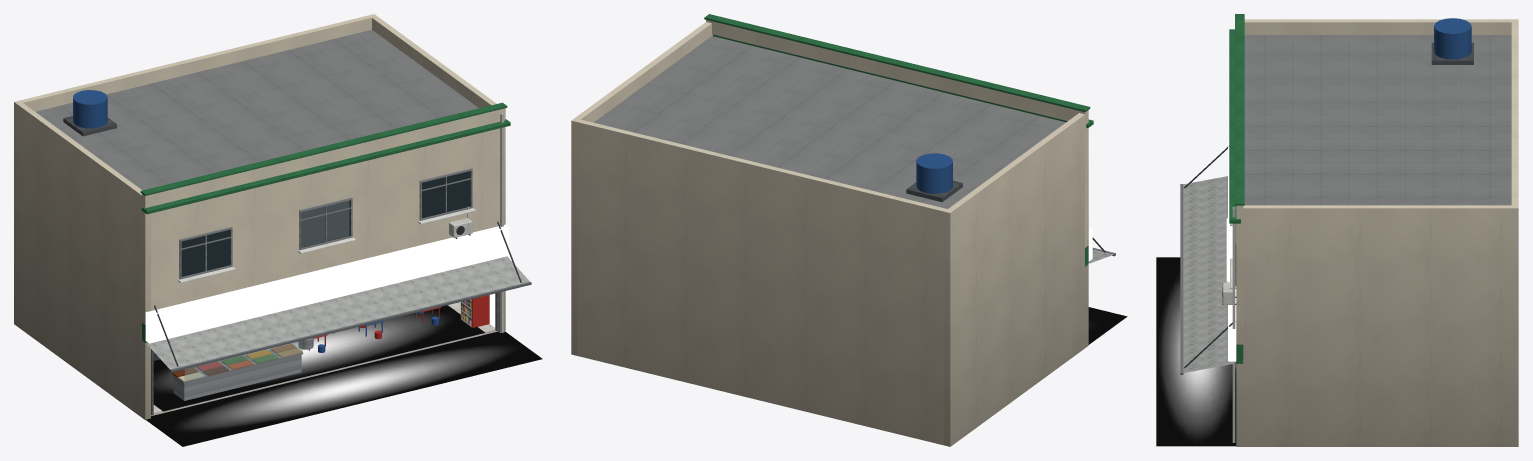
File: LM_SHOP_WarungKakAna.glb
3 views of the same model, side by side, from view 1: azimuth 30°, elevation 25°; view 2: azimuth 150°, elevation 25°; view 3: azimuth 270°, elevation 25° (orthographic). The views are drawn at different scales.
Parts seen in each view (by area): view 1: LM_SHOP_WarungKakAna | Render wall, LM_SHOP_WarungKakAna | Painted panel, LM_SHOP_WarungKakAna | Night wash, LM_SHOP_WarungKakAna | Night glow sign, LM_SHOP_WarungKakAna | Zinc sheet, LM_SHOP_WarungKakAna | Satin metal, LM_SHOP_WarungKakAna | Upper floor glass, LM_SHOP_WarungKakAna | Plastic, LM_SHOP_WarungKakAna | Shopfront glass, LM_SHOP_WarungKakAna | Night glow LED, LM_SHOP_WarungKakAna | Floor tiles; view 2: LM_SHOP_WarungKakAna | Render wall, LM_SHOP_WarungKakAna | Painted panel, LM_SHOP_WarungKakAna | Plastic, LM_SHOP_WarungKakAna | Night wash, LM_SHOP_WarungKakAna | Satin metal; view 3: LM_SHOP_WarungKakAna | Render wall, LM_SHOP_WarungKakAna | Painted panel, LM_SHOP_WarungKakAna | Night wash, LM_SHOP_WarungKakAna | Zinc sheet, LM_SHOP_WarungKakAna | Plastic, LM_SHOP_WarungKakAna | Satin metal, LM_SHOP_WarungKakAna | Night glow sign.
Part boxes in pixels (x1=…): LM_SHOP_WarungKakAna | Render wall: x1=14, y1=14, x2=505, y2=420; LM_SHOP_WarungKakAna | Painted panel: x1=35, y1=29, x2=510, y2=342; LM_SHOP_WarungKakAna | Night wash: x1=146, y1=305, x2=542, y2=446; LM_SHOP_WarungKakAna | Night glow sign: x1=145, y1=224, x2=509, y2=343; LM_SHOP_WarungKakAna | Zinc sheet: x1=147, y1=256, x2=529, y2=369; LM_SHOP_WarungKakAna | Satin metal: x1=63, y1=116, x2=531, y2=415; LM_SHOP_WarungKakAna | Upper floor glass: x1=181, y1=171, x2=470, y2=276; LM_SHOP_WarungKakAna | Plastic: x1=73, y1=90, x2=503, y2=381; LM_SHOP_WarungKakAna | Shopfront glass: x1=184, y1=299, x2=471, y2=380; LM_SHOP_WarungKakAna | Night glow LED: x1=302, y1=201, x2=495, y2=327; LM_SHOP_WarungKakAna | Floor tiles: x1=151, y1=302, x2=497, y2=415; LM_SHOP_WarungKakAna | Render wall: x1=571, y1=20, x2=1088, y2=446; LM_SHOP_WarungKakAna | Painted panel: x1=594, y1=14, x2=1093, y2=266; LM_SHOP_WarungKakAna | Plastic: x1=916, y1=153, x2=952, y2=193; LM_SHOP_WarungKakAna | Night wash: x1=1088, y1=307, x2=1127, y2=344; LM_SHOP_WarungKakAna | Satin metal: x1=906, y1=180, x2=1115, y2=256; LM_SHOP_WarungKakAna | Render wall: x1=1236, y1=19, x2=1518, y2=446; LM_SHOP_WarungKakAna | Painted panel: x1=1222, y1=14, x2=1511, y2=363; LM_SHOP_WarungKakAna | Night wash: x1=1156, y1=257, x2=1236, y2=446; LM_SHOP_WarungKakAna | Zinc sheet: x1=1183, y1=176, x2=1233, y2=372; LM_SHOP_WarungKakAna | Plastic: x1=1222, y1=18, x2=1471, y2=442; LM_SHOP_WarungKakAna | Satin metal: x1=1180, y1=42, x2=1473, y2=374; LM_SHOP_WarungKakAna | Night glow sign: x1=1226, y1=142, x2=1236, y2=361.
Bounding box in the file's own units: 19.2 × 12 × 15.4.
12 materials, 7 textured.
